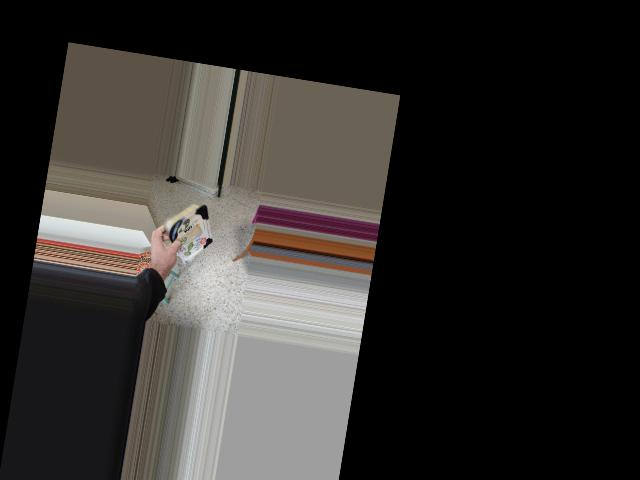cheese: (143, 196, 225, 262)
